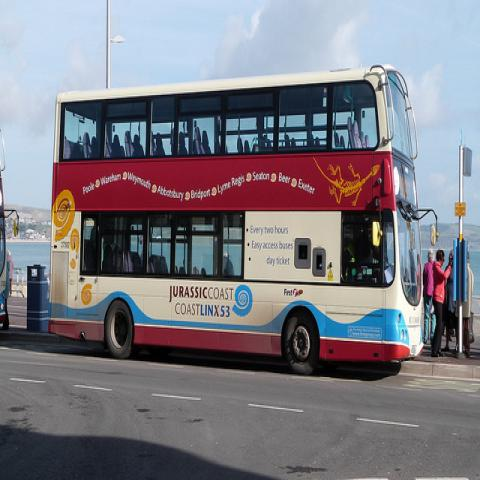bus: (51, 71, 424, 359)
